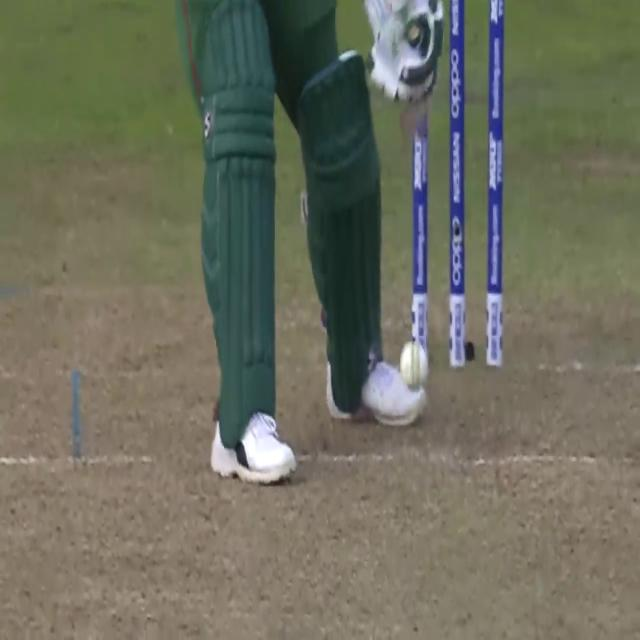ball: (397, 333, 430, 394)
